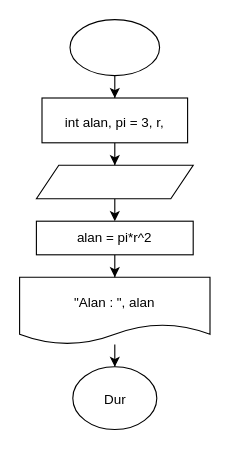
This 230x449 diagram has some shape labels left out. The box of each missing label's shape, as (x1, y1, x2, y2) in pixels:
"Yarıçap :", r: (35, 164, 193, 199)
Başla: (69, 18, 160, 76)
